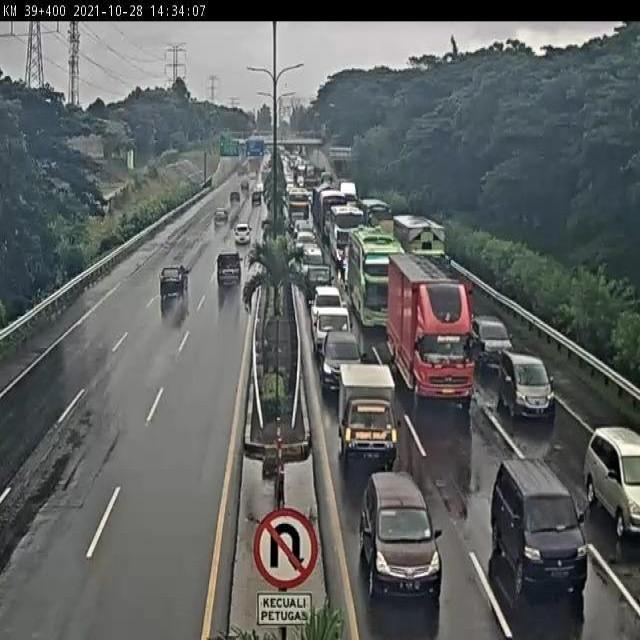big bus: (348, 228, 401, 329), (322, 202, 362, 258), (286, 186, 308, 226)
big truck: (388, 248, 467, 395), (392, 212, 456, 284), (318, 190, 347, 238), (362, 198, 391, 225)
car: (487, 455, 587, 589), (357, 475, 442, 601), (587, 420, 640, 541), (335, 352, 395, 457), (494, 348, 550, 415), (320, 331, 361, 386), (313, 303, 352, 357), (466, 312, 508, 359), (298, 258, 330, 298), (157, 261, 190, 299), (216, 252, 244, 288), (307, 283, 346, 308), (448, 299, 471, 340), (296, 238, 320, 266), (233, 221, 255, 248), (213, 207, 230, 229), (294, 222, 312, 242)
